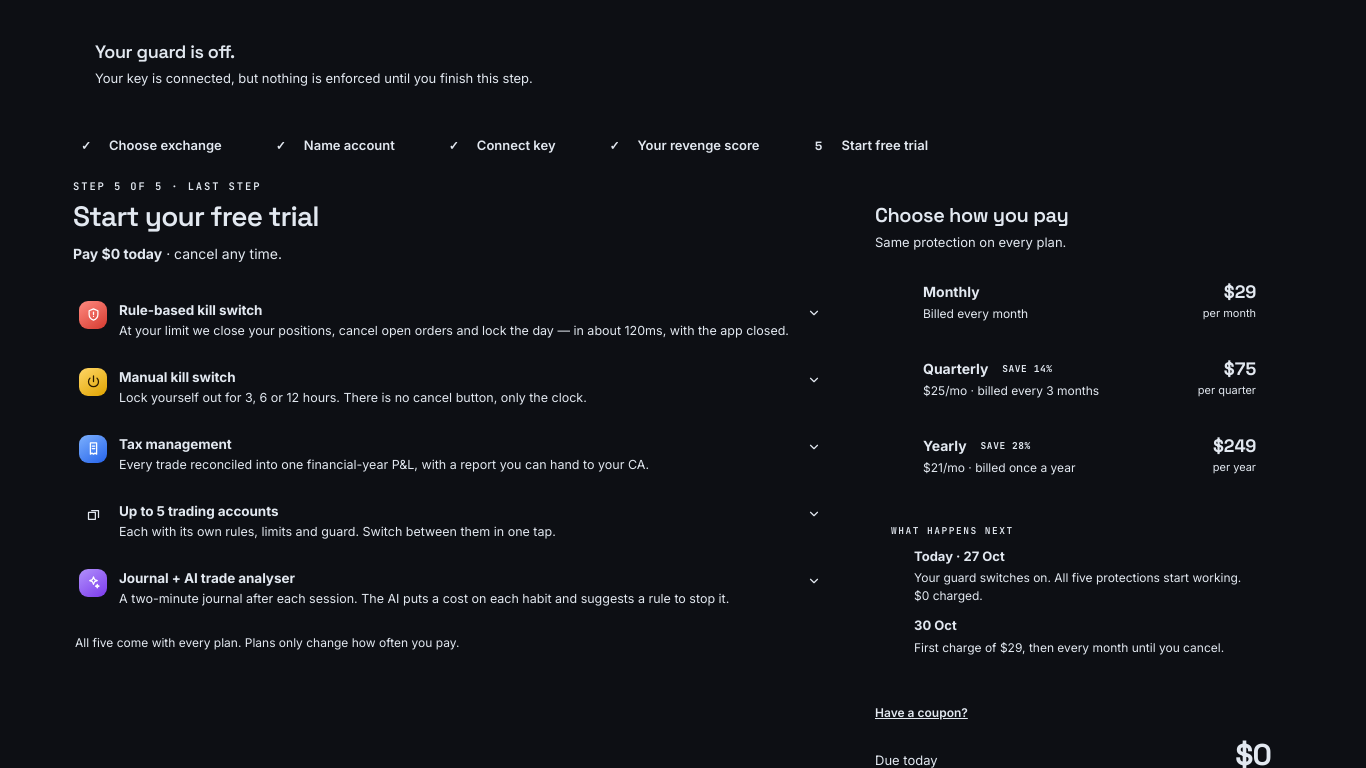
Test case: billing step › keeps the discount when the plan changes, if it is good there too
This screenshot has width=1366, height=768.
Step 1. Click the button "Have a coupon?" → click(921, 712), box [875, 704, 968, 722]
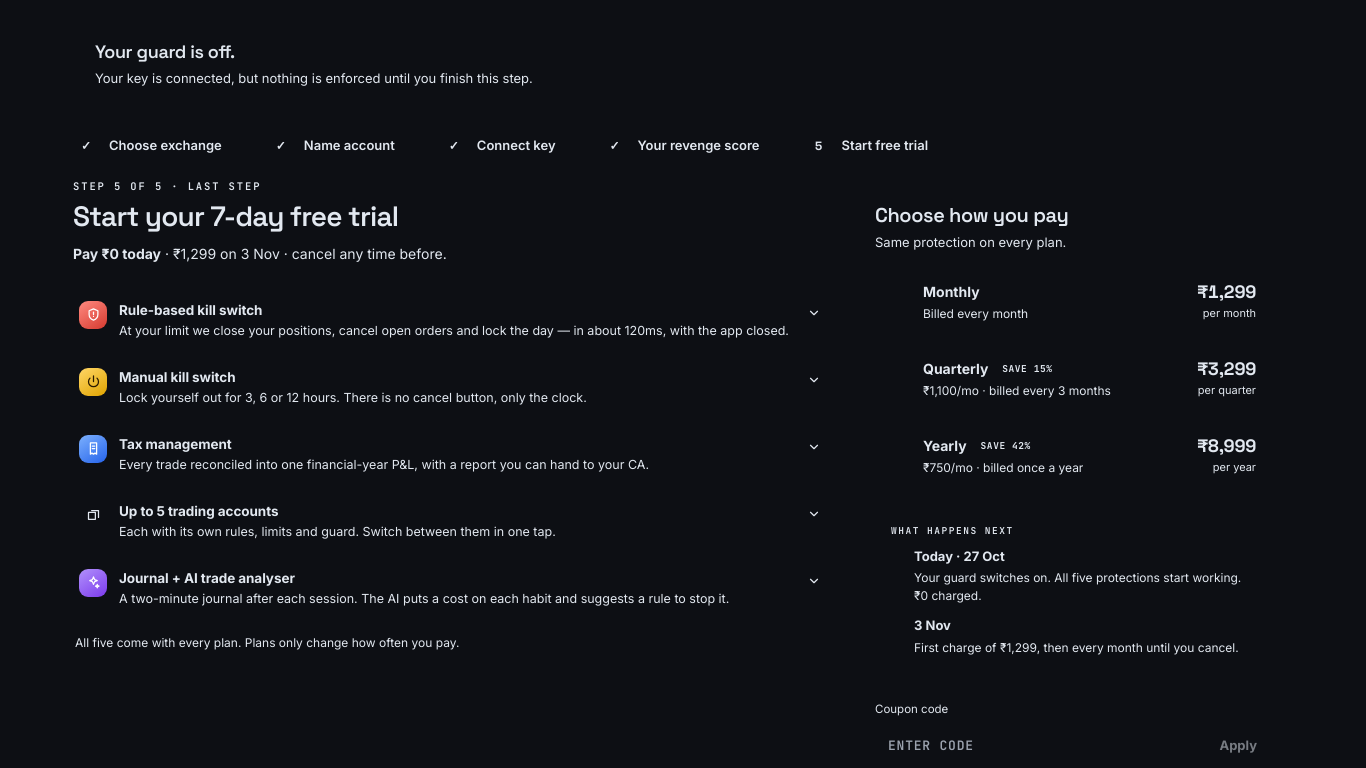
Step 2. Type "save15" into the field with placeholder "Enter code" → (1036, 746), box [875, 724, 1197, 767]
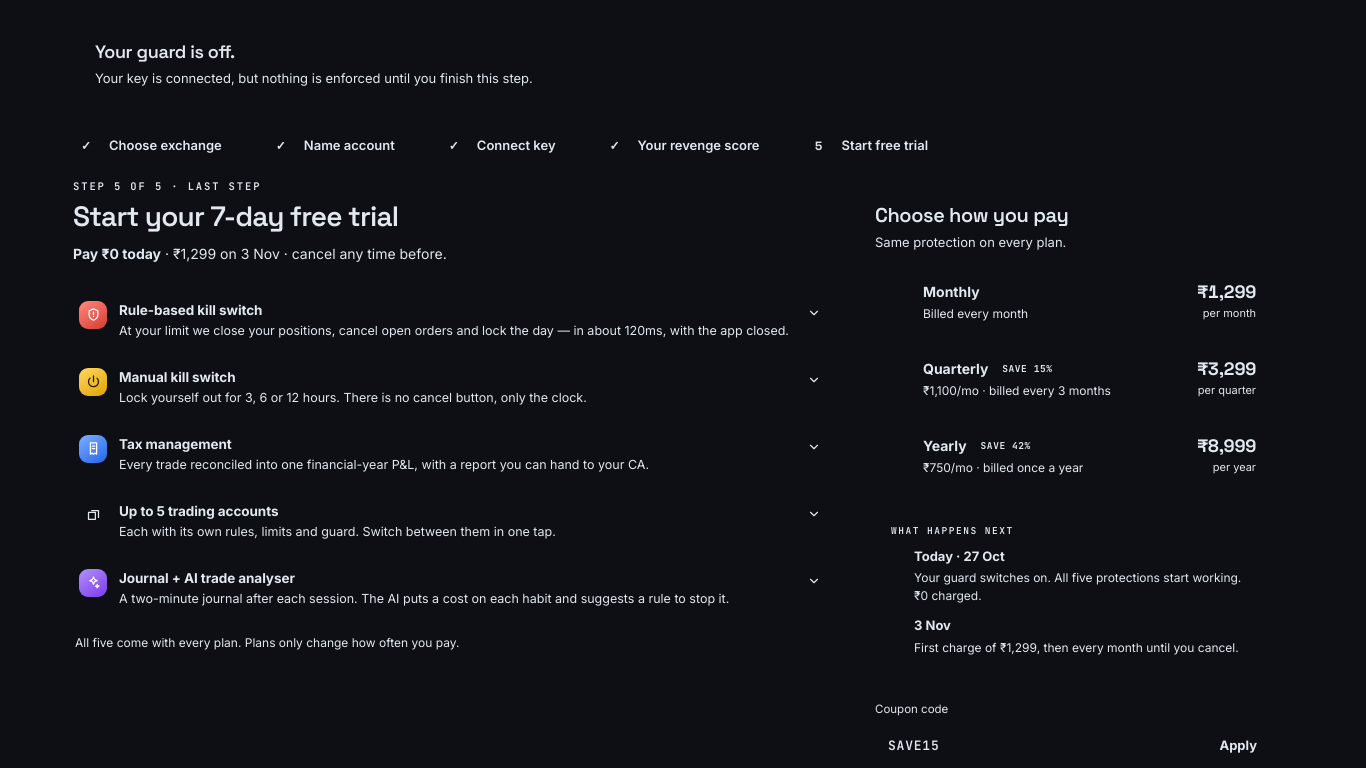
Step 3. Click the button "Apply" → click(1238, 746), box [1205, 724, 1271, 767]
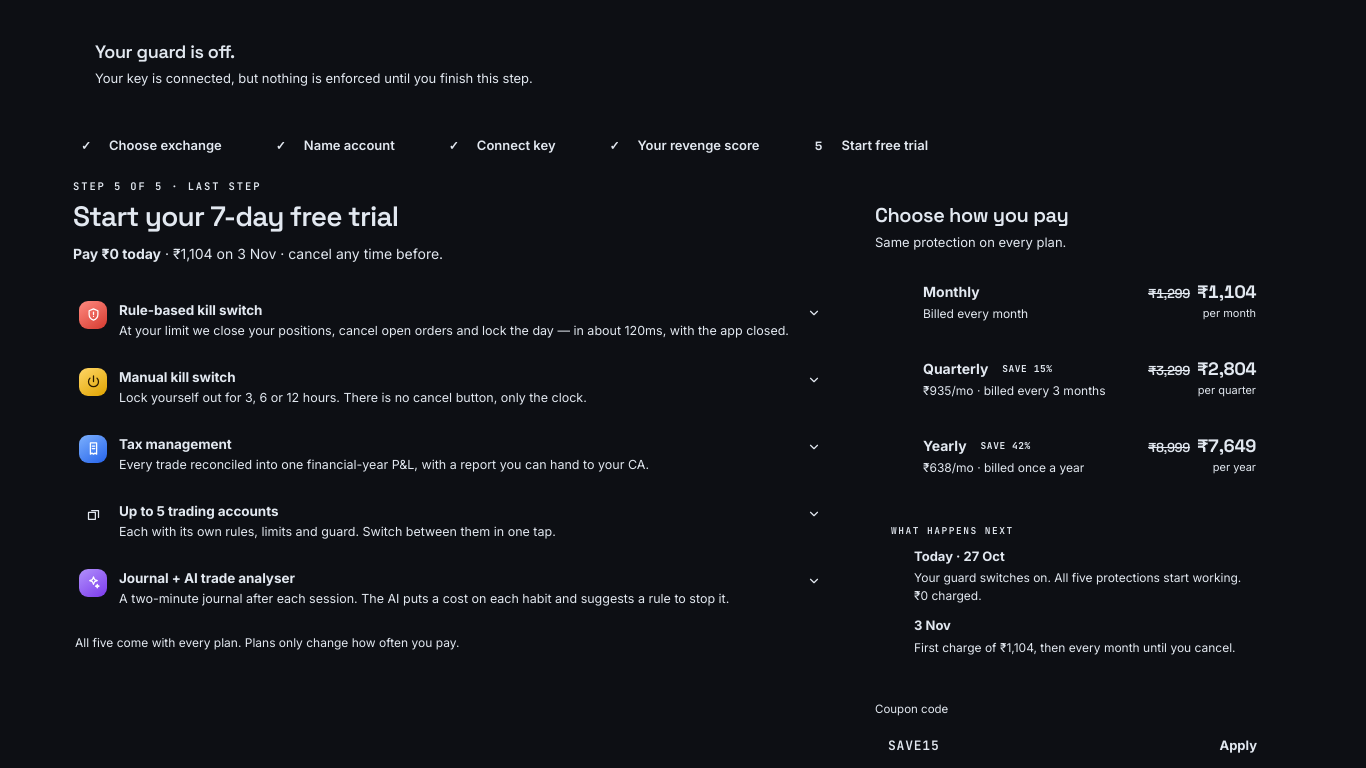
Step 4. Click the radio button labelled "Yearly" → click(945, 446), box [875, 422, 1271, 490]
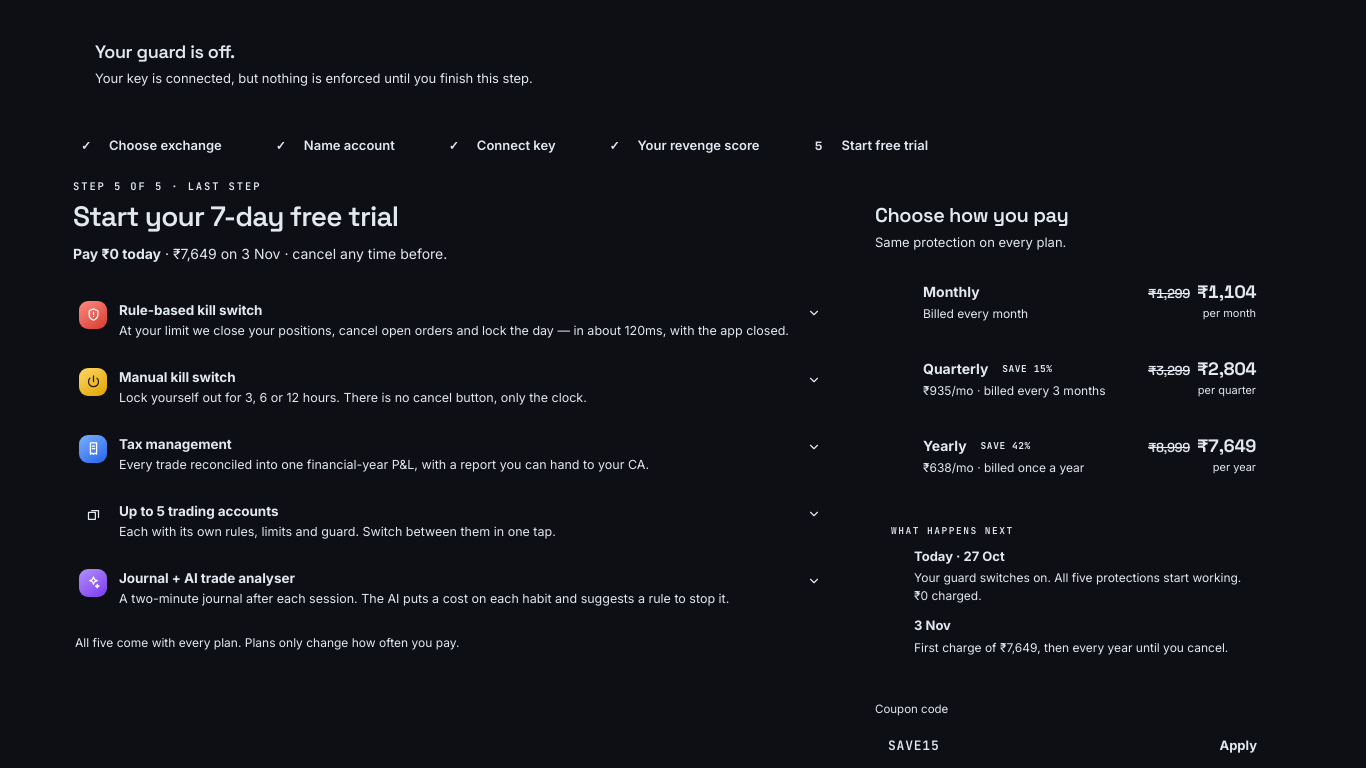
Result: the text "First charge of ₹7,649, then every year until you cancel." is shown at [914, 638, 1228, 656]
